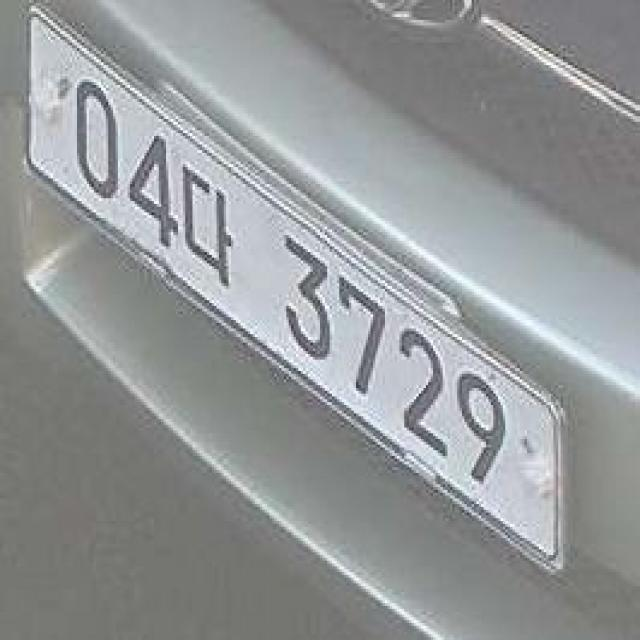illegal_plate: (21, 41, 582, 573)
